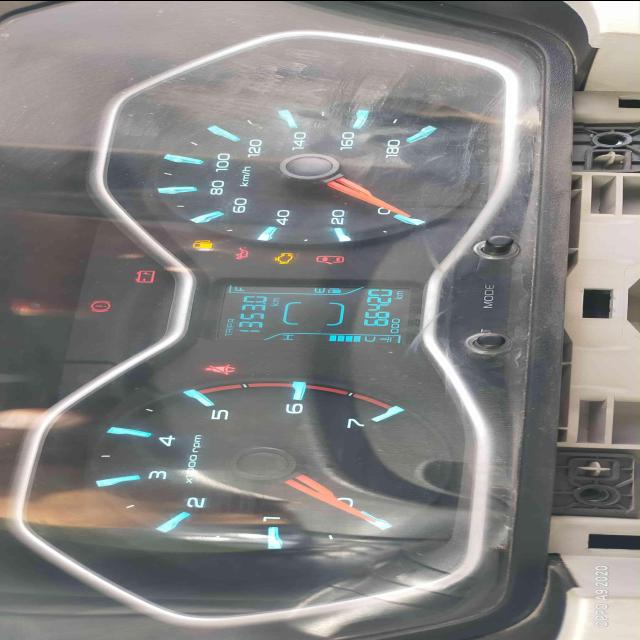Braking System Issue: (89, 298, 113, 312)
Charging System Issue: (134, 268, 156, 282)
Check Engine: (273, 252, 293, 264)
Low Engine Oil Warning Light: (233, 244, 250, 258)
